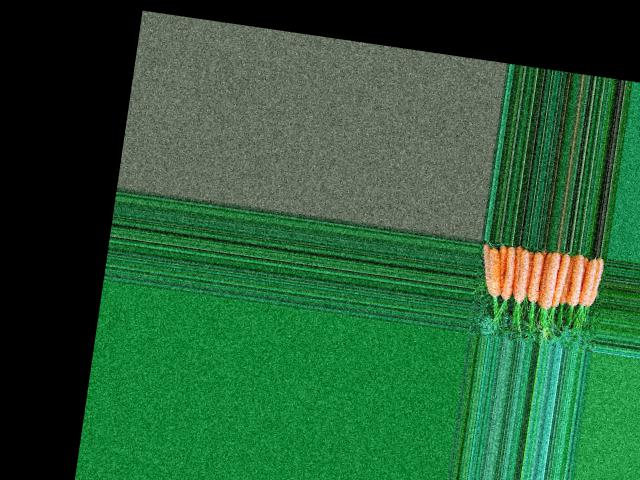carrot: (588, 255, 603, 306)
